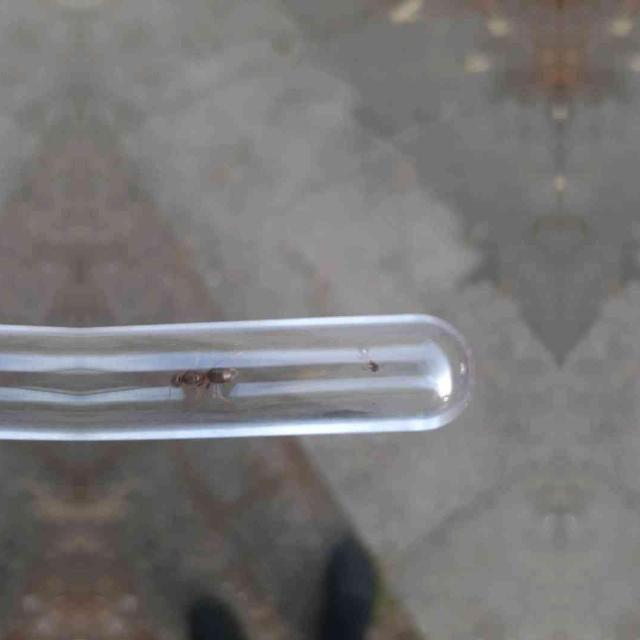Lasius: (162, 356, 238, 406)
